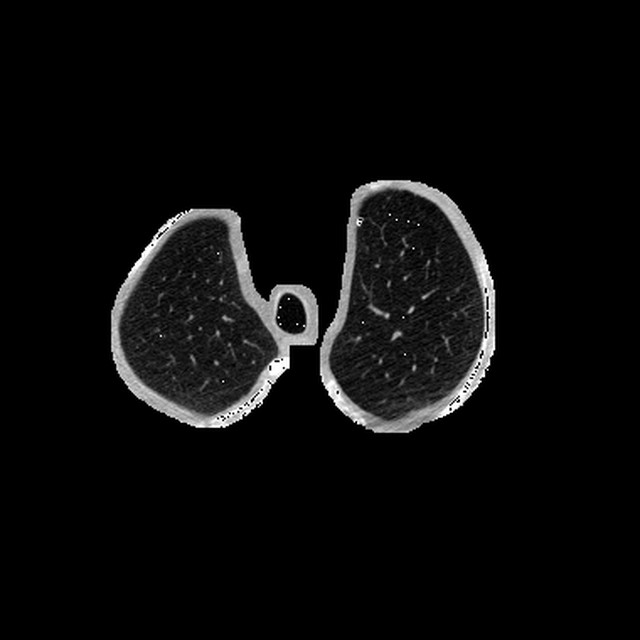PN: (355, 217, 362, 224)
